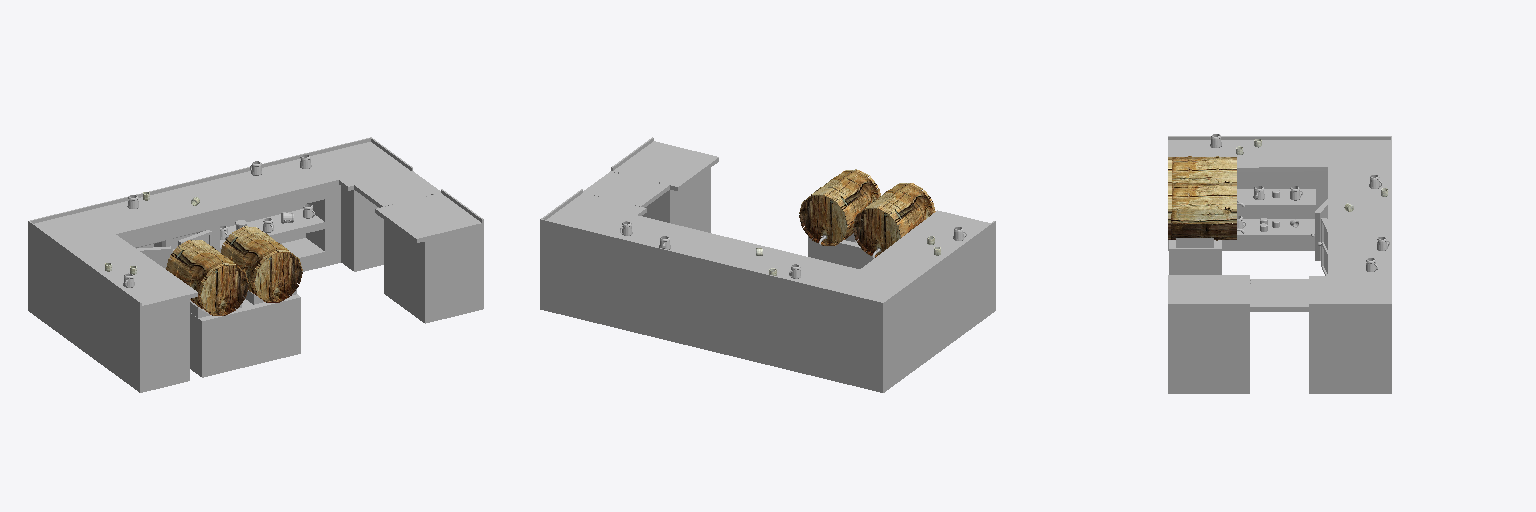
The picture shows the model from 3 angles: view 1: azimuth 30°, elevation 25°; view 2: azimuth 150°, elevation 25°; view 3: azimuth 270°, elevation 25°; orthographic projection.
Parts seen in each view (by area): view 1: Tavern; view 2: Tavern; view 3: Tavern.
Part boxes in pixels (x1,y1,x2,y2): Tavern: (28,137,483,392); Tavern: (540,137,995,392); Tavern: (1168,134,1391,393).
Size of the model in its own units: 207 by 62.65 by 117.
Materials: 5 (2 with a texture image).